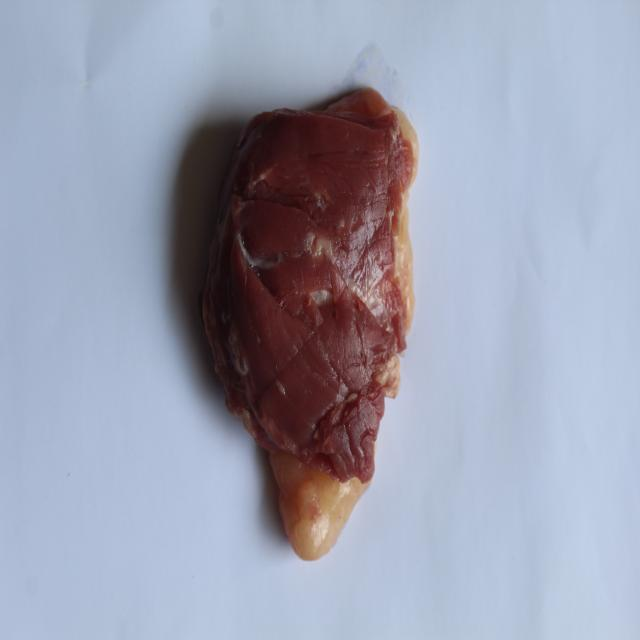beef: (170, 50, 432, 566)
